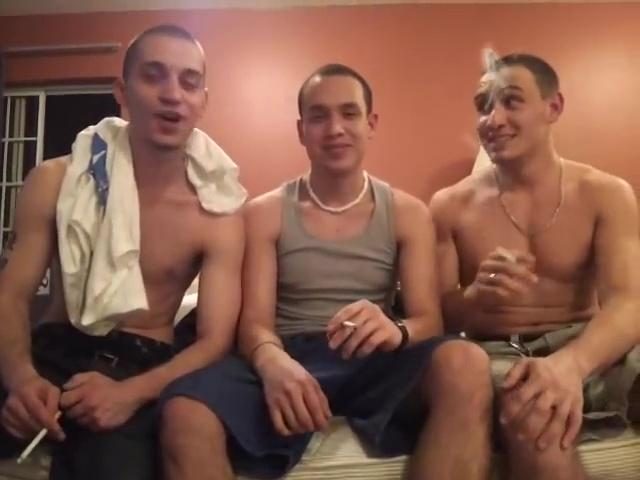cigarette: (16, 406, 62, 464), (493, 243, 522, 265), (341, 319, 358, 329)
